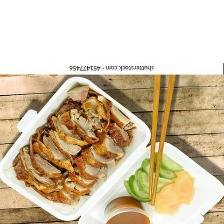foam_box: (0, 75, 224, 224)
